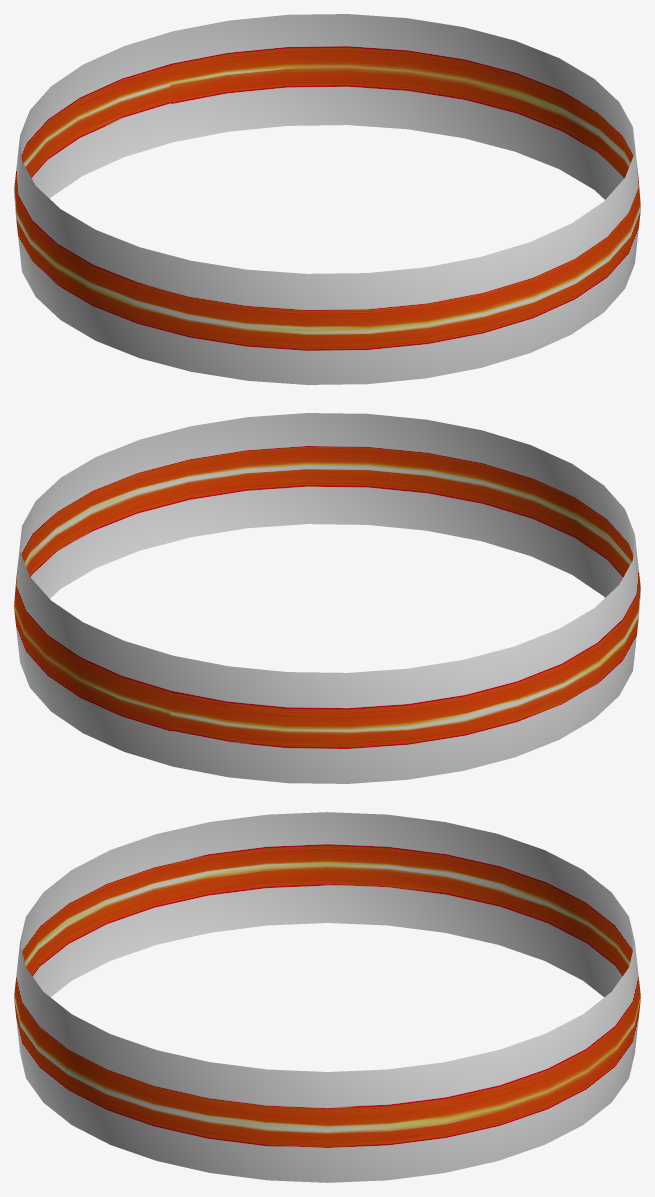
3 renders of one model, top to bottom at view 1: azimuth 30°, elevation 25°; view 2: azimuth 150°, elevation 25°; view 3: azimuth 270°, elevation 25°, orthographic.
Parts seen in each view (by area): view 1: Sphere_100; view 2: Sphere_100; view 3: Sphere_100.
Boxes of the visible parts, box(x1,y1,x2,y2) form: Sphere_100: box(14, 14, 640, 384); Sphere_100: box(14, 413, 640, 783); Sphere_100: box(14, 812, 640, 1182).
Bounding box in the file's own units: 14.99 × 2.92 × 14.99.
